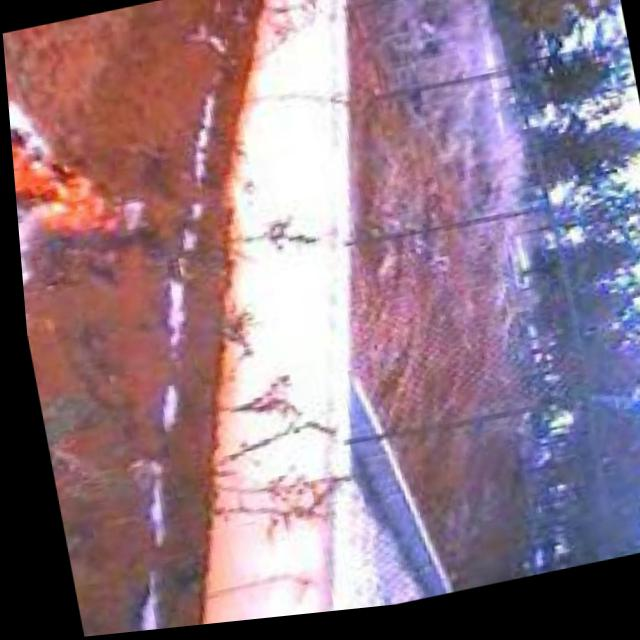Fire: (6, 85, 148, 264)
